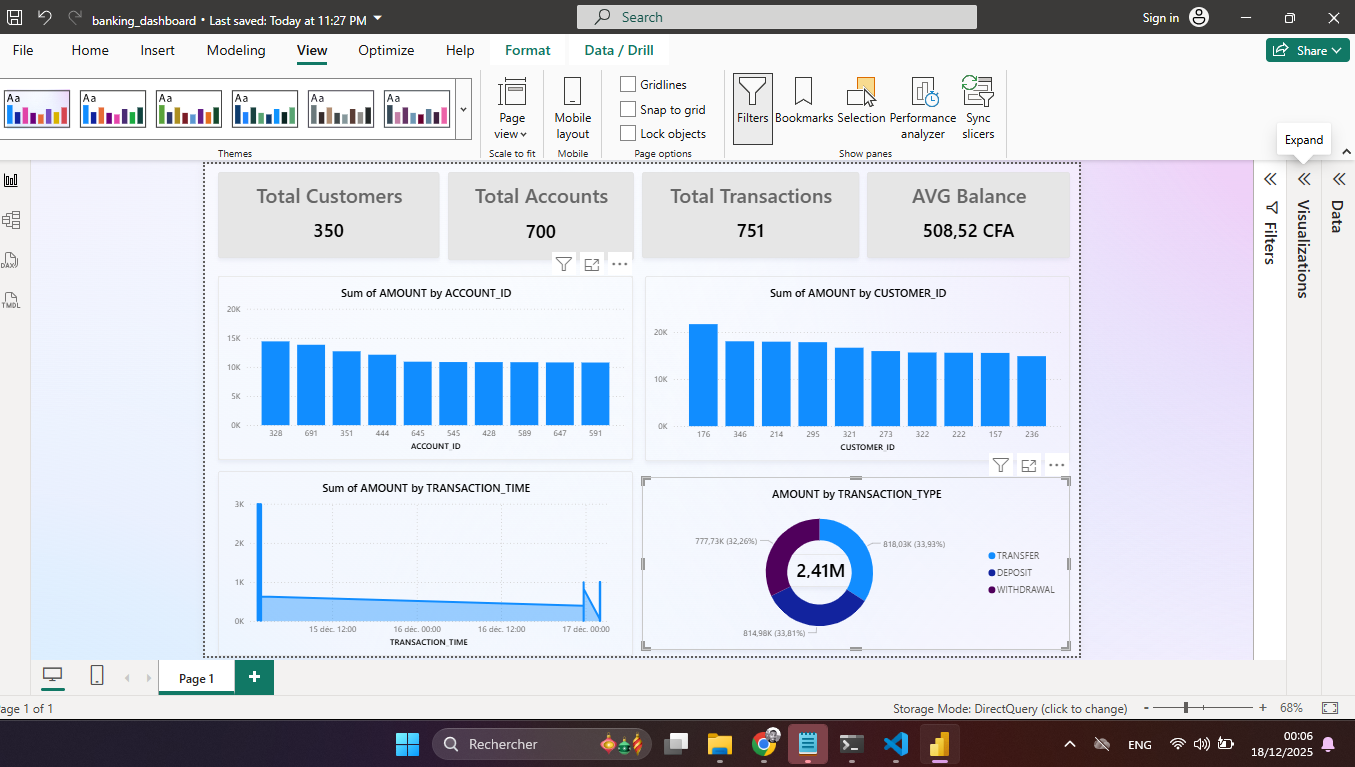

The page's visual inventory and layout, read from the dashboard file:
{"tool":"powerbi","page":{"name":"Page 1","canvas":[1280,720],"ordinal":0},"visuals":[{"type":"card","title":"Total Customers","fields":{"Values":["Count(DIM_CUSTOMERS.CUSTOMER_ID)"]},"box":[18.5,11.8,324.2,126],"z":0},{"type":"card","title":"Total Accounts","fields":{"Values":["Count(DIM_ACCOUNTS.ACCOUNT_ID)"]},"box":[356.1,11.8,272.1,129.3],"z":1000},{"type":"card","title":"Total Transactions","fields":{"Values":["Count(FACT_TRANSACTIONS.TRANSACTION_ID)"]},"box":[639.5,11.7,317.6,125.9],"z":2000},{"type":"card","title":"AVG  Balance","fields":{"Values":["Avg(DIM_ACCOUNTS.BALANCE)"]},"box":[969.2,11.8,297.3,126],"z":3000},{"type":"areaChart","fields":{"Category":["FACT_TRANSACTIONS.TRANSACTION_TIME"],"Y":["Sum(FACT_TRANSACTIONS.AMOUNT)"]},"box":[18.5,164.6,609.8,270.4],"z":4000},{"type":"clusteredColumnChart","fields":{"Category":["FACT_TRANSACTIONS.CUSTOMER_ID"],"Y":["Sum(FACT_TRANSACTIONS.AMOUNT)"]},"box":[643.4,164.6,626.6,270.4],"z":5000},{"type":"clusteredColumnChart","fields":{"Y":["Sum(FACT_TRANSACTIONS.AMOUNT)"],"Category":["FACT_TRANSACTIONS.ACCOUNT_ID"]},"box":[639.5,450.7,626.3,269.3],"z":6000},{"type":"card","fields":{"Values":["Sum(FACT_TRANSACTIONS.AMOUNT)"]},"box":[213.3,561,110.9,47],"z":7000},{"type":"donutChart","title":"AMOUNT by TRANSACTION_TYPE","fields":{"Category":["FACT_TRANSACTIONS.TRANSACTION_TYPE"],"Y":["Sum(FACT_TRANSACTIONS.AMOUNT)"]},"box":[18.5,450.2,609.8,253.6],"z":8000}]}

Visuals, with their boxes on the page's 1280x720 design canvas (x1, y1, x2, y2). These are canvas units, not pixel positions in the 1355x767 screenshot, which may show the page scaled, cropped or inside an application window:
"Total Customers" card: (18,12,343,138)
"Total Accounts" card: (356,12,628,141)
"Total Transactions" card: (640,12,957,138)
"AVG  Balance" card: (969,12,1266,138)
areaChart - FACT_TRANSACTIONS.TRANSACTION_TIME x Sum(FACT_TRANSACTIONS.AMOUNT): (18,165,628,435)
clusteredColumnChart - FACT_TRANSACTIONS.CUSTOMER_ID x Sum(FACT_TRANSACTIONS.AMOUNT): (643,165,1270,435)
clusteredColumnChart - Sum(FACT_TRANSACTIONS.AMOUNT) x FACT_TRANSACTIONS.ACCOUNT_ID: (640,451,1266,720)
card - Sum(FACT_TRANSACTIONS.AMOUNT): (213,561,324,608)
"AMOUNT by TRANSACTION_TYPE" donutChart: (18,450,628,704)
